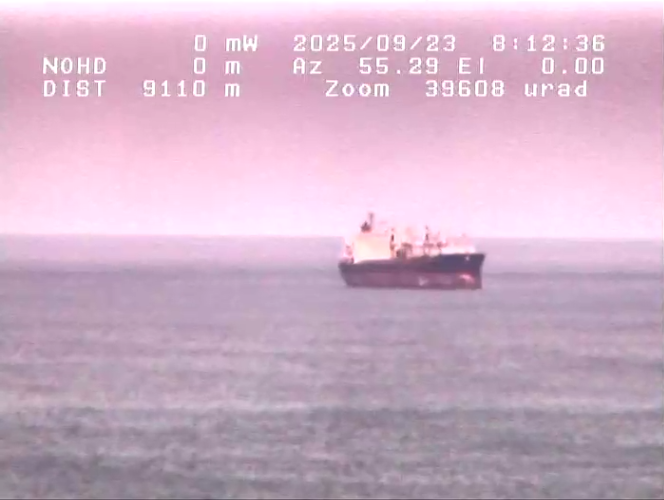TANKER: (330, 192, 497, 310)
